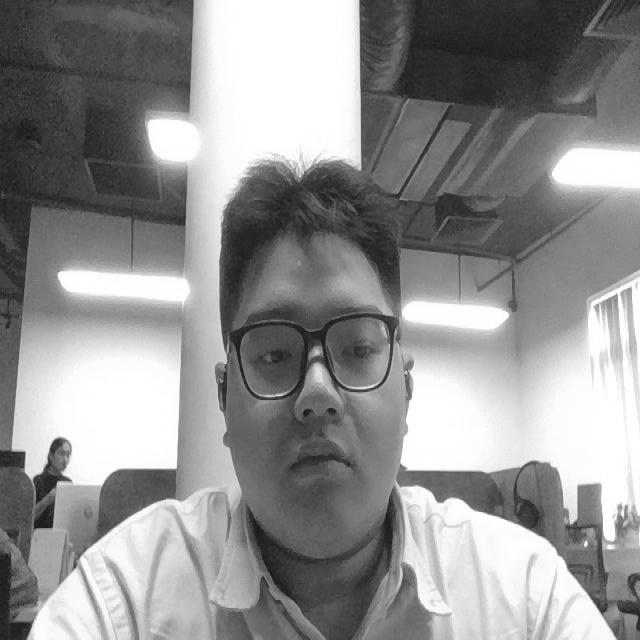real: (191, 144, 433, 577), (235, 316, 403, 381)
